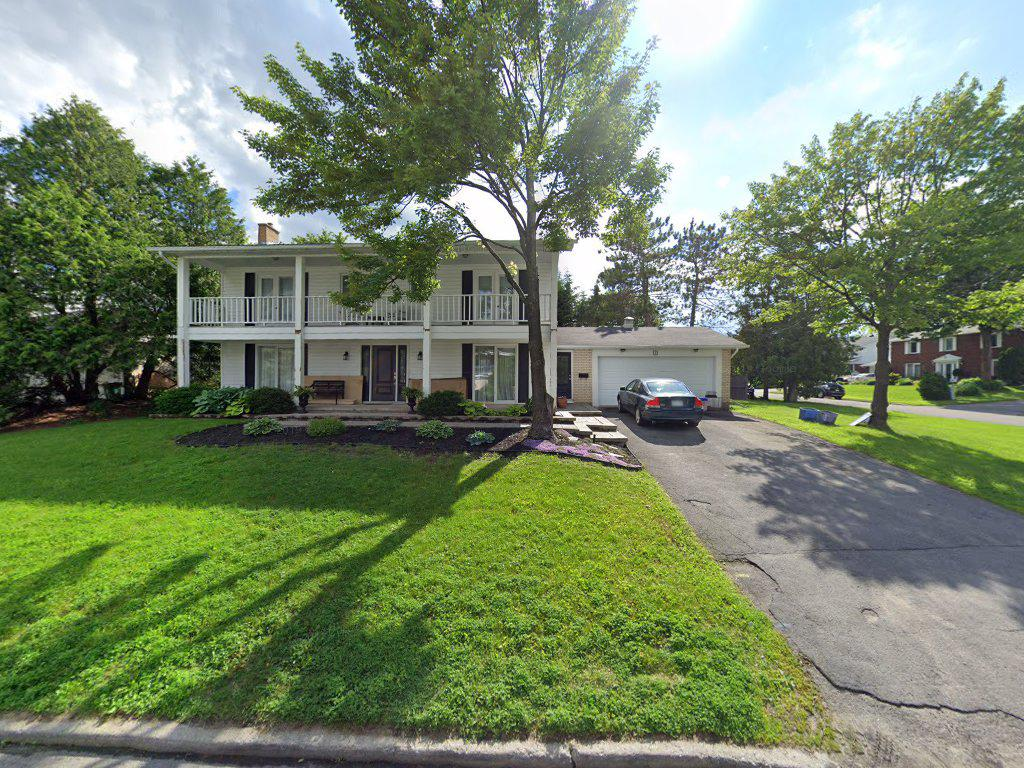trunk: (520, 204, 553, 463), (865, 317, 895, 446)
